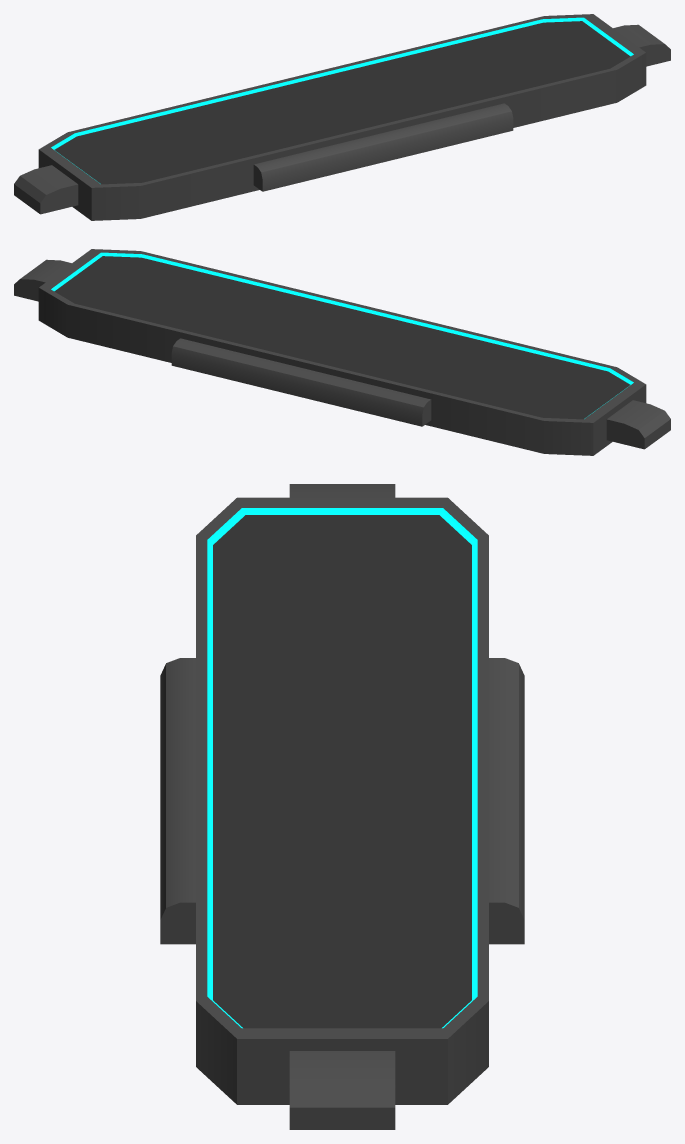
File: SM_Platform_C.fbx
The picture shows the model from 3 angles, top to bottom: view 1: azimuth 30°, elevation 25°; view 2: azimuth 150°, elevation 25°; view 3: azimuth 270°, elevation 25°; orthographic projection. The views are drawn at different scales.
Parts seen in each view (by area): view 1: SM_Platform_C; view 2: SM_Platform_C; view 3: SM_Platform_C.
Part boxes in pixels (box(x1,y1,x2,y2)): SM_Platform_C: box(14, 14, 670, 220); SM_Platform_C: box(14, 249, 670, 455); SM_Platform_C: box(160, 484, 524, 1129).
Size of the model in its own units: 400 by 20 by 100.
